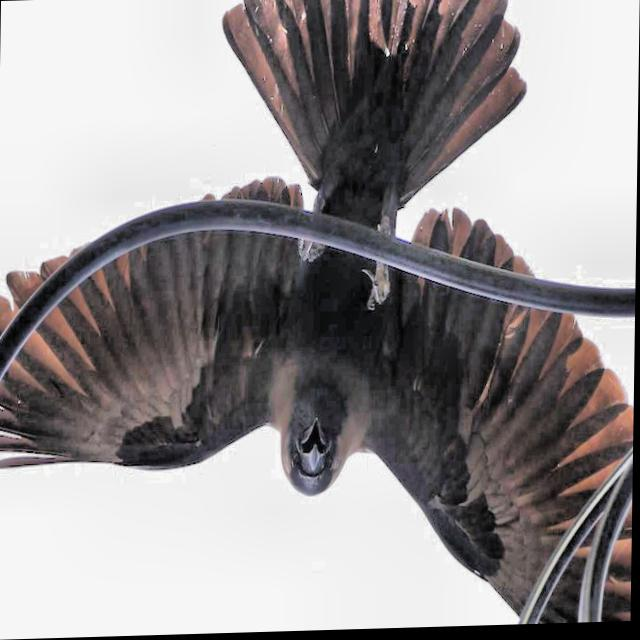crow: (0, 0, 640, 640)
